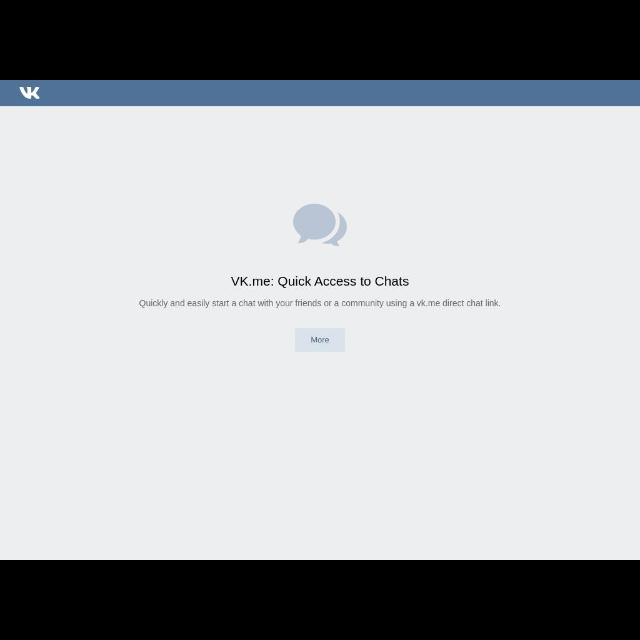icon: (293, 204, 349, 246)
image: (294, 203, 348, 247), (18, 85, 40, 101)
text: (138, 299, 504, 309), (229, 274, 409, 286), (311, 335, 331, 343)
textbutton: (292, 328, 346, 352)
